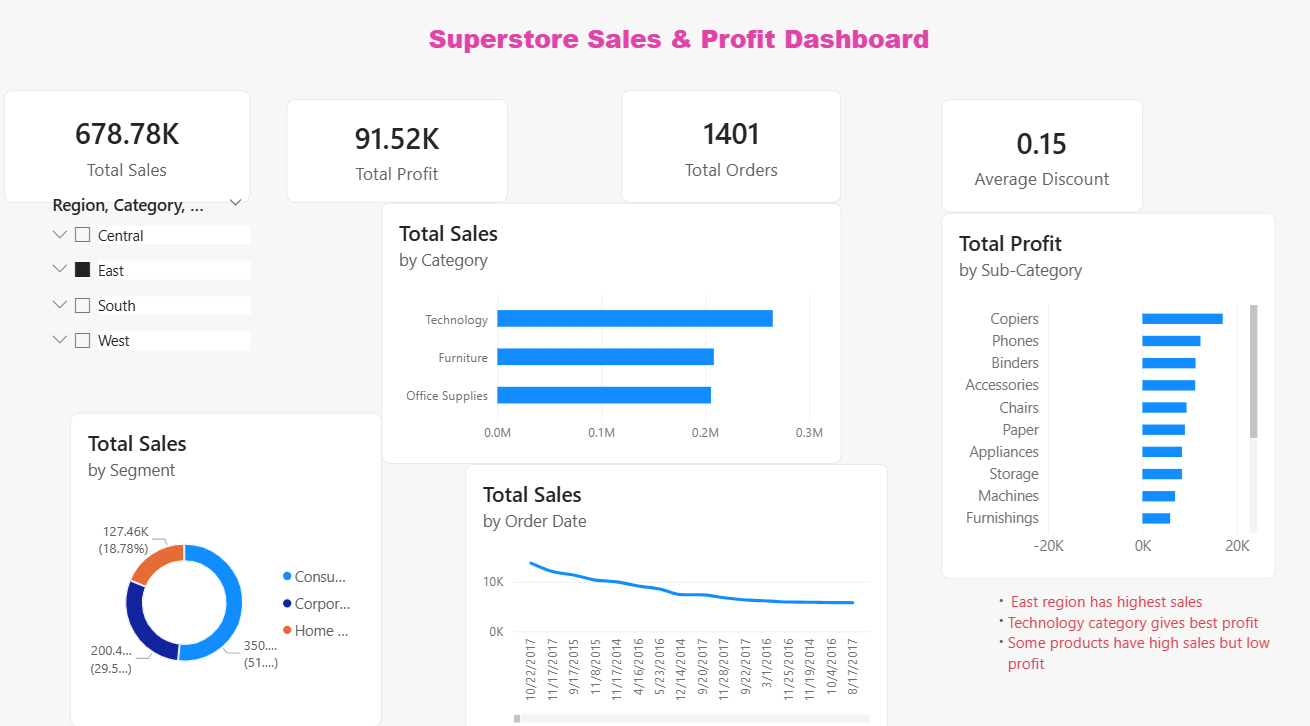

The dashboard page shown, as its layout file describes it:
{"tool":"powerbi","page":{"name":"Page 1","canvas":[1280,720],"ordinal":0},"visuals":[{"type":"card","fields":{"Values":["Products _Sales.Total Sales"]},"box":[9.7,92.9,237.7,108.6],"z":0},{"type":"card","fields":{"Values":["Products _Sales.Total Orders"]},"box":[605.6,92.9,212.3,108.6],"z":1000},{"type":"card","fields":{"Values":["Products _Sales.Total Profit"]},"box":[282.3,101.3,213.5,100.1],"z":2000},{"type":"card","fields":{"Values":["Products _Sales.Average Discount"]},"box":[914.5,101.3,194.2,109.8],"z":3000},{"type":"lineChart","fields":{"Category":["Products _Sales.Order Date"],"Y":["Products _Sales.Total Sales"]},"box":[454.8,453.6,407.8,266.6],"z":4000},{"type":"clusteredBarChart","fields":{"Y":["Products _Sales.Total Sales"],"Category":["Products _Sales.Category"]},"box":[374,201.5,444,252.1],"z":5000},{"type":"clusteredBarChart","fields":{"Category":["Products _Sales.Sub-Category"],"Y":["Products _Sales.Total Profit"]},"box":[914.5,211.1,322.1,353.5],"z":6000},{"type":"donutChart","fields":{"Category":["Products _Sales.Segment"],"Y":["Products _Sales.Total Sales"]},"box":[73.6,404.2,300.4,302.8],"z":7000},{"type":"slicer","fields":{"Values":["Products _Sales.Region","Products _Sales.Category","Products _Sales.Order Date","Products _Sales.Segment"]},"box":[48,192.1,199,193.5],"z":8000},{"type":"textbox","box":[319.7,25.3,682.8,53.1],"z":8001},{"type":"textbox","box":[960.3,575.5,276.3,107.4],"z":8002}]}

Visuals, with their boxes in screenshot pixels (x1, y1, x2, y2), scaled from the page's 1280x720 canvas onto the 1310x726 screenshot:
card - Products _Sales.Total Sales: [10, 94, 253, 203]
card - Products _Sales.Total Orders: [620, 94, 837, 203]
card - Products _Sales.Total Profit: [289, 102, 507, 203]
card - Products _Sales.Average Discount: [936, 102, 1135, 213]
lineChart - Products _Sales.Order Date x Products _Sales.Total Sales: [465, 457, 883, 725]
clusteredBarChart - Products _Sales.Total Sales x Products _Sales.Category: [383, 203, 837, 457]
clusteredBarChart - Products _Sales.Sub-Category x Products _Sales.Total Profit: [936, 213, 1266, 569]
donutChart - Products _Sales.Segment x Products _Sales.Total Sales: [75, 408, 383, 713]
slicer - Products _Sales.Region x Products _Sales.Category: [49, 194, 253, 389]
textbox: [327, 26, 1026, 79]
textbox: [983, 580, 1266, 689]
